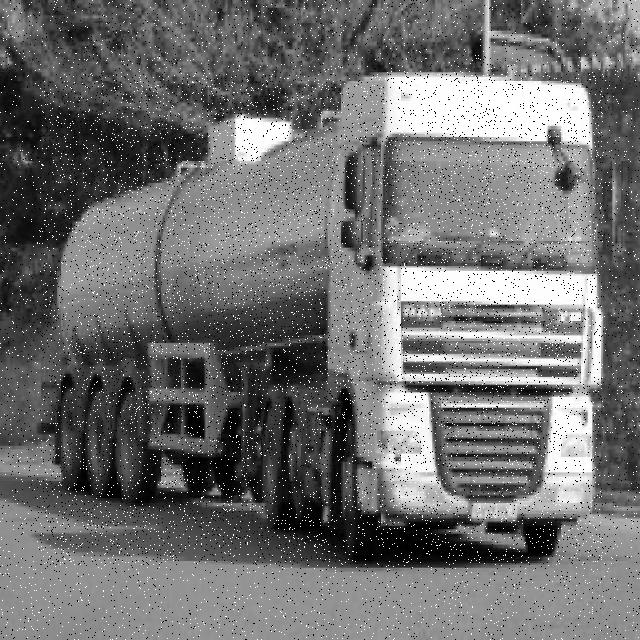Box Truck: (40, 74, 603, 565)
